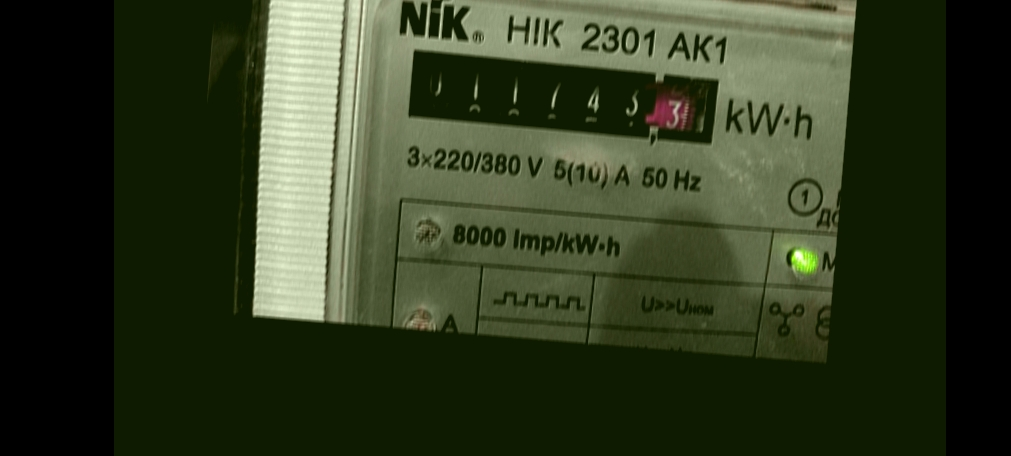0: (426, 63, 448, 101)
1: (509, 71, 527, 106), (472, 68, 485, 102)
3: (622, 83, 644, 120), (665, 99, 686, 133)
4: (585, 80, 605, 116)
7: (547, 76, 567, 112)
screen: (394, 38, 735, 159)
